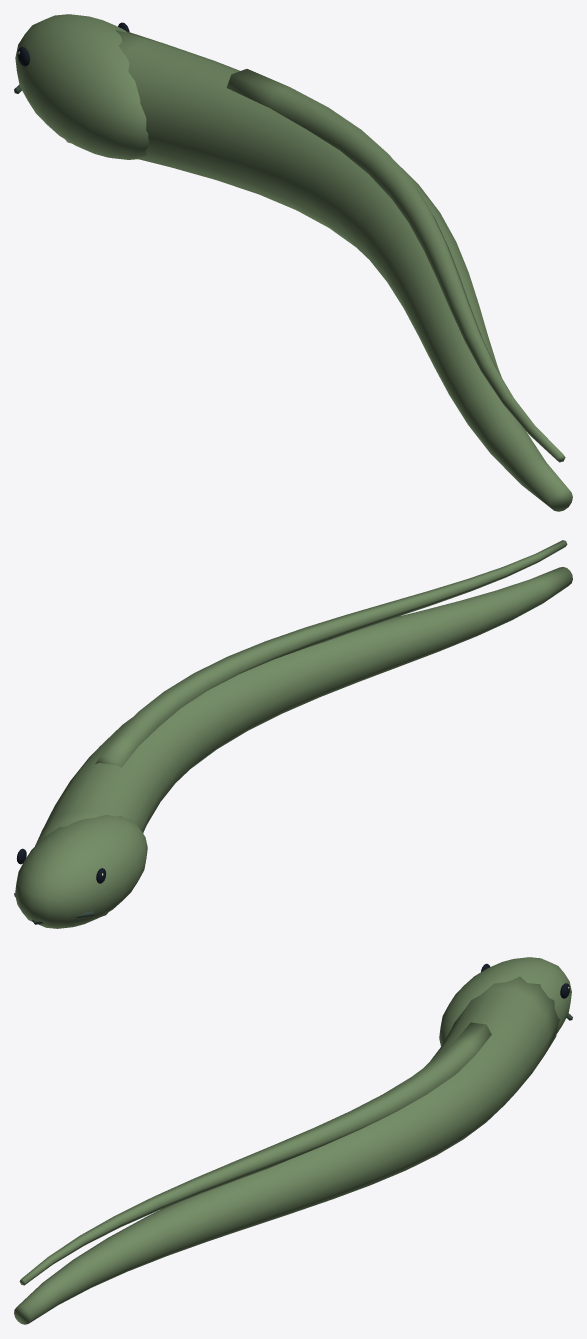
File: green-moray.glb
The picture shows the model from 3 angles, top to bottom: view 1: azimuth 30°, elevation 25°; view 2: azimuth 150°, elevation 25°; view 3: azimuth 330°, elevation 25°; orthographic projection. The views are drawn at different scales.
Parts seen in each view (by area): view 1: green-moray; view 2: green-moray; view 3: green-moray.
Part boxes in pixels (<box>): green-moray: <box>14,14,572,511</box>; green-moray: <box>14,540,572,928</box>; green-moray: <box>14,957,572,1324</box>.
Bounding box in the file's own units: 0.2754 × 0.1738 × 1.43.
